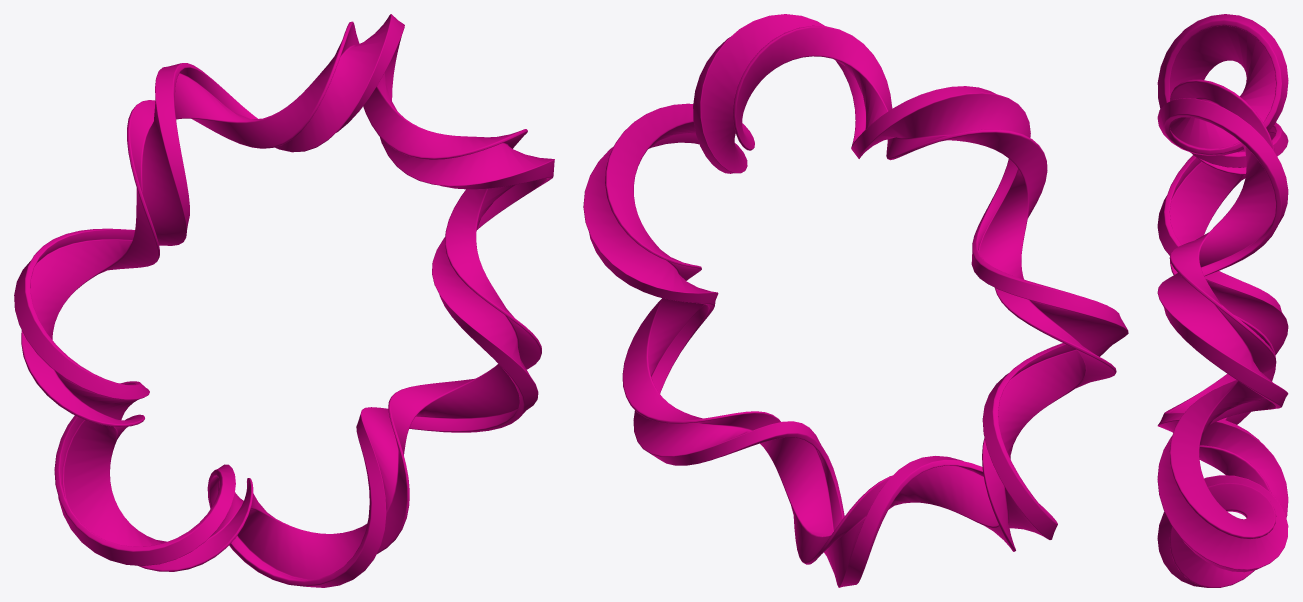
The model's file is wrap1.fbx.
3 renders of one model, left to right at view 1: azimuth 30°, elevation 25°; view 2: azimuth 150°, elevation 25°; view 3: azimuth 270°, elevation 25°, orthographic. The views are drawn at different scales.
Parts seen in each view (by area): view 1: crazy_wrap_circle_quads_:default001sdfd; view 2: crazy_wrap_circle_quads_:default001sdfd; view 3: crazy_wrap_circle_quads_:default001sdfd.
Boxes of the visible parts, x1,y1,x2,y2 form: crazy_wrap_circle_quads_:default001sdfd: (14, 14, 554, 587); crazy_wrap_circle_quads_:default001sdfd: (583, 14, 1128, 587); crazy_wrap_circle_quads_:default001sdfd: (1157, 14, 1288, 587).
Bounding box in the file's own units: 500 × 496 × 113.
